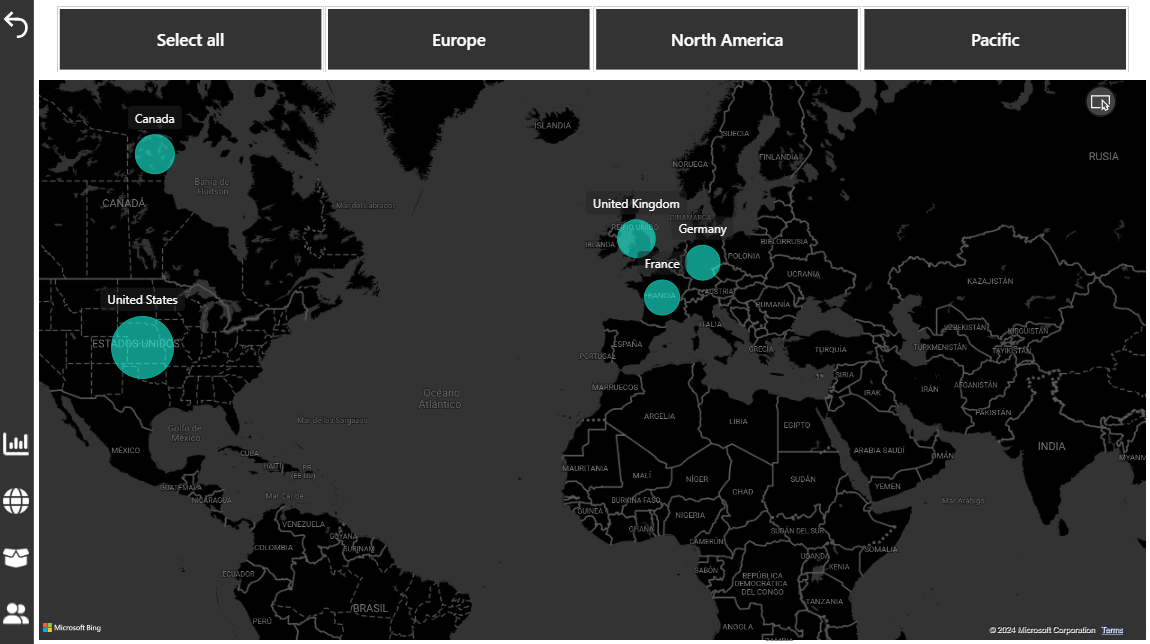

What the dashboard file says about the page in this screenshot:
{"tool":"powerbi","page":{"name":"Map","canvas":[1280,720],"ordinal":1},"visuals":[{"type":"shape","title":"Left Nav Backr","box":[0,0,40,720],"z":0},{"type":"map","fields":{"Category":["Territory Lookup.Country"],"Size":["Measure Table.Total Orders"]},"box":[40,86.7,1240,633.3],"z":1000},{"type":"slicer","fields":{"Values":["Territory Lookup.Continent"]},"box":[40,3.3,1240,86.7],"z":2000},{"type":"actionButton","box":[2.2,479,51.7,36.7],"z":3000},{"type":"actionButton","box":[2.2,541.7,51.7,36.7],"z":4000},{"type":"actionButton","box":[2.2,604.5,51.7,36.7],"z":5000},{"type":"actionButton","box":[2.2,667.3,51.7,36.7],"z":6000},{"type":"actionButton","box":[0,10,40,41.4],"z":7000}]}

Visuals, with their boxes in screenshot pixels (x1, y1, x2, y2):
"Left Nav Backr" shape: box=[0, 0, 32, 635]
map - Territory Lookup.Country x Measure Table.Total Orders: box=[32, 76, 1126, 635]
slicer - Territory Lookup.Continent: box=[32, 3, 1126, 79]
actionButton: box=[0, 422, 45, 455]
actionButton: box=[0, 478, 45, 510]
actionButton: box=[0, 533, 45, 565]
actionButton: box=[0, 589, 45, 621]
actionButton: box=[0, 9, 32, 45]
